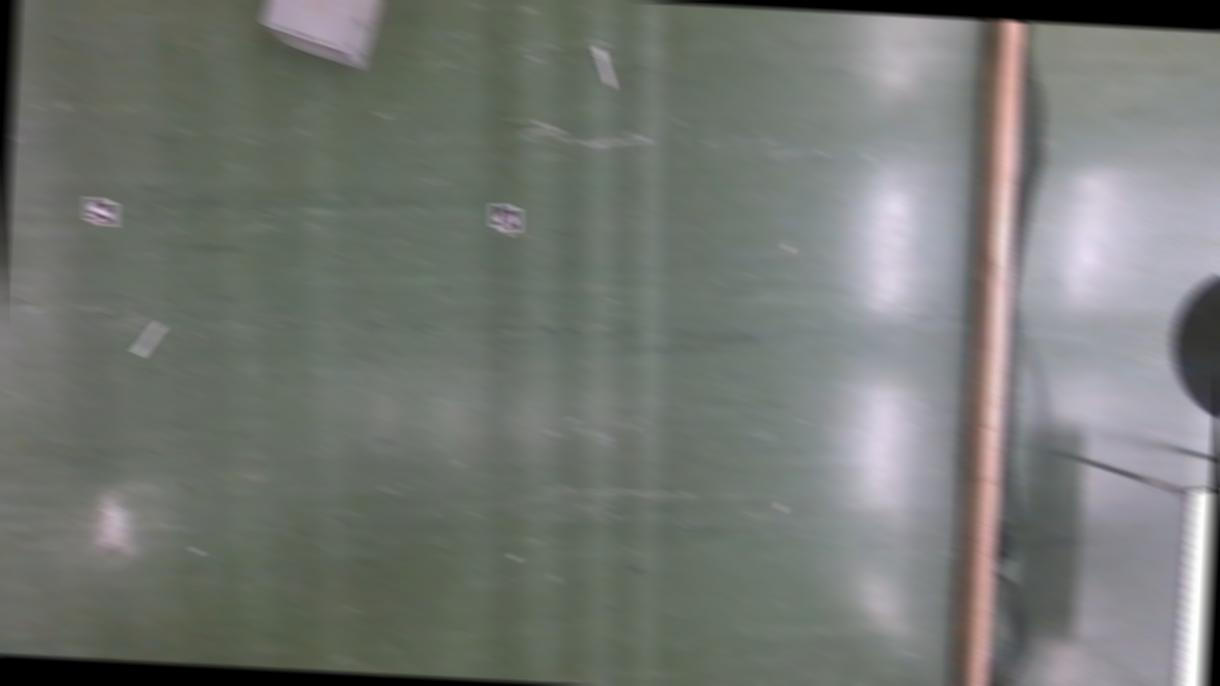probes: (134, 322, 164, 358), (593, 48, 617, 88)
rako: (256, 0, 392, 71)
